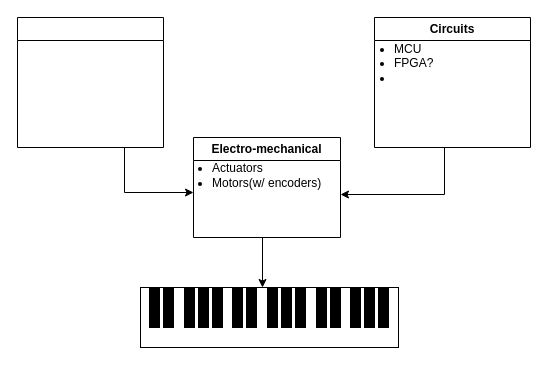
This 548x370 diagram has some shape labels left out. Each missing label, with the centre of its shape:
KEYBOARD: the point at 269,317
Software: the point at 90,82
